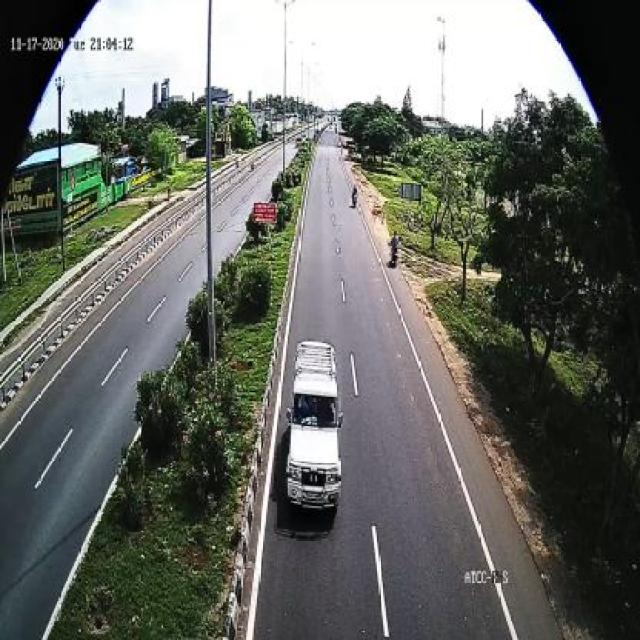car: (285, 329, 349, 526)
